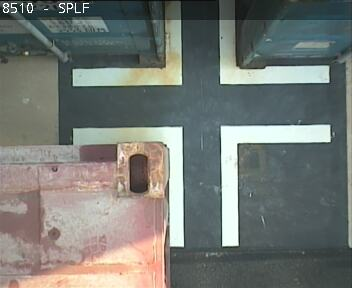groundmarker_1: (71, 122, 328, 246), (70, 1, 329, 85)
